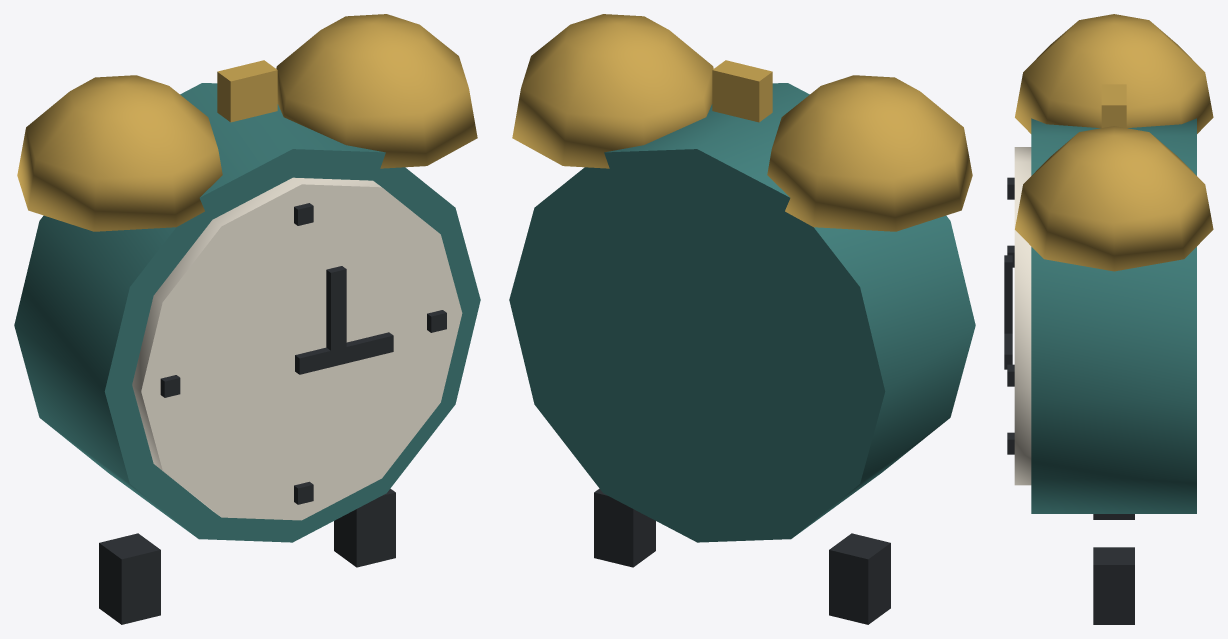
File: alarm_clock.glb
3 views of the same model, side by side, from view 1: azimuth 30°, elevation 25°; view 2: azimuth 150°, elevation 25°; view 3: azimuth 270°, elevation 25° (orthographic). The views are drawn at different scales.
Parts seen in each view (by area): view 1: alarm_clock; view 2: alarm_clock; view 3: alarm_clock.
Part boxes in pixels (x1,y1,x2,y2): alarm_clock: [14, 14, 480, 624]; alarm_clock: [509, 14, 975, 624]; alarm_clock: [1004, 14, 1213, 624].
Bounding box in the file's own units: 0.112 × 0.129 × 0.0505.
